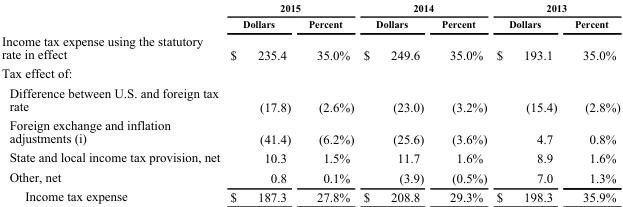table: (0, 1, 619, 204)
table column: (0, 1, 224, 204), (224, 1, 299, 204), (358, 1, 432, 204), (491, 1, 565, 204), (299, 1, 358, 204), (432, 1, 491, 204), (565, 1, 619, 204)
table column header: (0, 1, 619, 31)
table projected row header: (0, 63, 619, 82)
table row: (0, 82, 619, 115), (0, 31, 619, 63), (0, 115, 619, 147), (0, 147, 619, 167), (0, 63, 619, 82), (0, 167, 619, 186), (0, 186, 619, 204), (0, 15, 619, 31), (0, 1, 619, 15)
table spanning cell: (224, 1, 358, 15), (358, 1, 491, 15), (491, 1, 619, 15)
